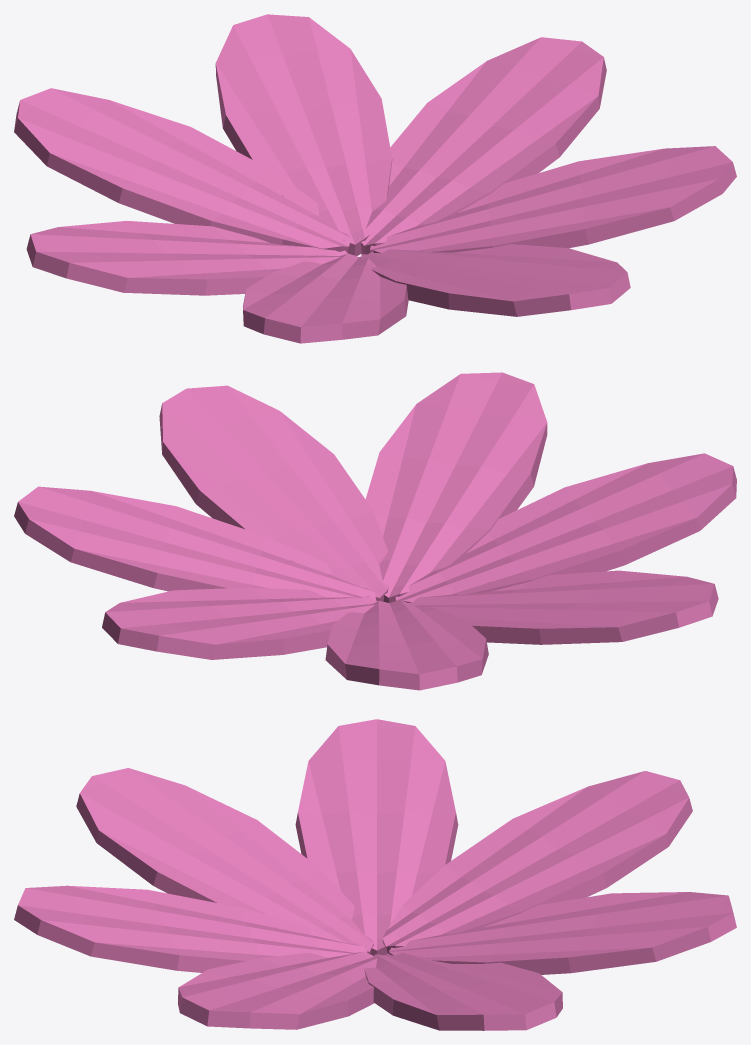
The model's file is flower.fbx.
The picture shows the model from 3 angles, top to bottom: view 1: azimuth 30°, elevation 25°; view 2: azimuth 150°, elevation 25°; view 3: azimuth 270°, elevation 25°; orthographic projection.
Visible parts, largest first — view 1: Circle.001; view 2: Circle.001; view 3: Circle.001.
Boxes of the visible parts, left/top/right/bottom form: Circle.001: left=14, top=14, right=736, bottom=343; Circle.001: left=14, top=372, right=736, bottom=690; Circle.001: left=14, top=719, right=736, bottom=1030.
Size of the model in its own units: 699 by 108 by 706.
